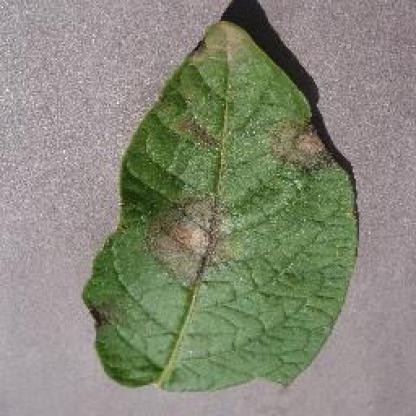bad leaf: (76, 26, 364, 391)
